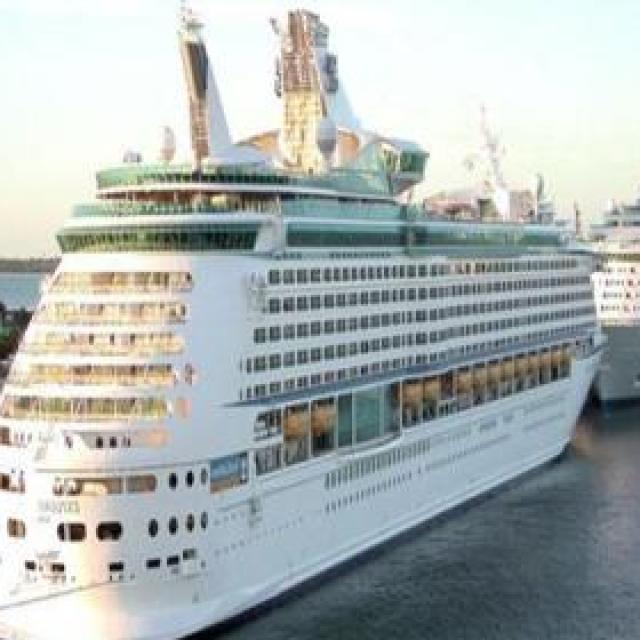passenger ship: (0, 151, 613, 635)
